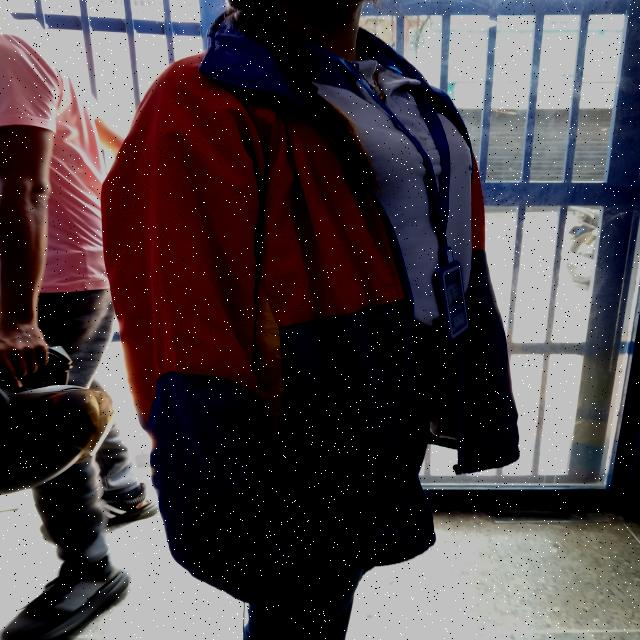carnet: (444, 268, 468, 337)
chaqueta_unefa: (99, 8, 520, 606)
